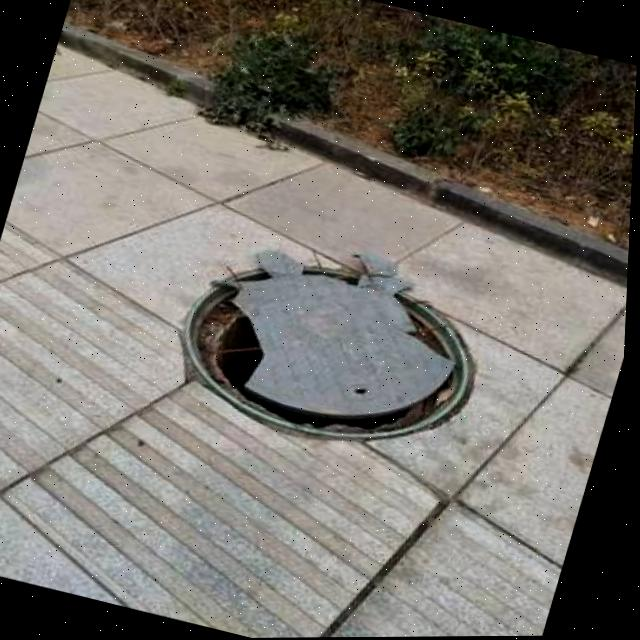manhole: (157, 222, 507, 470)
